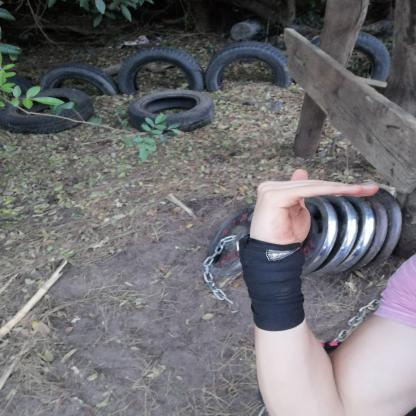KHAA: (234, 161, 392, 259)
